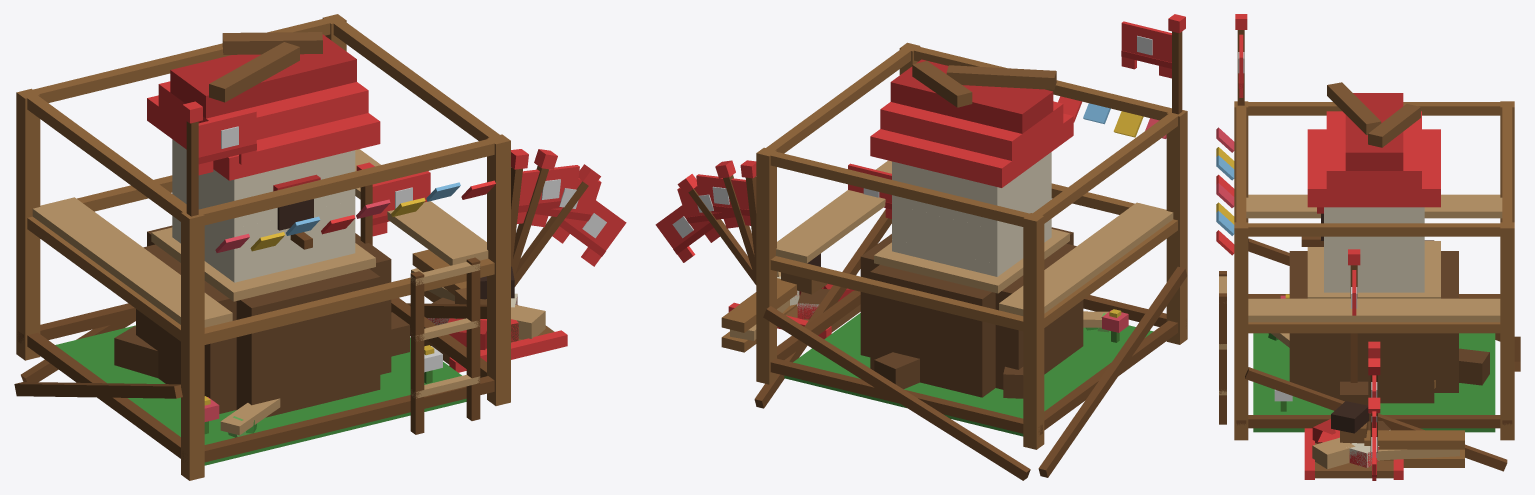
File: robin-home.glb
The picture shows the model from 3 angles, left to right: view 1: azimuth 30°, elevation 25°; view 2: azimuth 150°, elevation 25°; view 3: azimuth 270°, elevation 25°; orthographic projection. The views are drawn at different scales.
Visible parts, largest first — view 1: scaffold-mesh, built-mesh, dismantle-75-mesh, dismantle-25-mesh, dismantle-50-mesh, scaffold-banner, dismantle-25-banner, dismantle-75-banner, banner, scaffold-flag-pole, dismantle-25-flag-pole, dismantle-50-flag-pole (+3 smaller); view 2: scaffold-mesh, built-mesh, dismantle-25-mesh, dismantle-75-mesh, dismantle-50-mesh, scaffold-banner, dismantle-25-banner, dismantle-75-banner, dismantle-50-banner, dismantle-25-flag-pole, scaffold-flag-pole, dismantle-50-flag-pole (+2 smaller); view 3: scaffold-mesh, built-mesh, dismantle-25-mesh, dismantle-75-mesh, dismantle-50-mesh, flag-pole, scaffold-flag-pole, scaffold-banner, dismantle-25-flag-pole.
Boxes of the visible parts, x1,y1,x2,y2 form: scaffold-mesh: (14, 14, 510, 480); built-mesh: (147, 32, 433, 434); dismantle-75-mesh: (114, 199, 567, 464); dismantle-25-mesh: (55, 266, 567, 464); dismantle-50-mesh: (114, 297, 567, 465); scaffold-banner: (198, 110, 256, 175); dismantle-25-banner: (552, 192, 626, 266); dismantle-75-banner: (517, 165, 579, 223); banner: (372, 171, 430, 236); scaffold-flag-pole: (182, 101, 202, 216); dismantle-25-flag-pole: (514, 164, 600, 286); dismantle-50-flag-pole: (512, 149, 557, 276); scaffold-mesh: (721, 42, 1187, 480); built-mesh: (860, 59, 1121, 397); dismantle-25-mesh: (729, 253, 1153, 434); dismantle-75-mesh: (728, 204, 1116, 435); dismantle-50-mesh: (729, 271, 1116, 436); scaffold-banner: (1121, 21, 1171, 78); dismantle-25-banner: (655, 198, 719, 262); dismantle-75-banner: (696, 174, 750, 225); dismantle-50-banner: (677, 183, 738, 233); dismantle-25-flag-pole: (677, 174, 756, 284); scaffold-flag-pole: (1168, 14, 1185, 114); dismantle-50-flag-pole: (715, 160, 756, 281); scaffold-mesh: (1216, 101, 1520, 471); built-mesh: (1269, 82, 1458, 405); dismantle-25-mesh: (1253, 333, 1495, 476); dismantle-75-mesh: (1274, 240, 1488, 479); dismantle-50-mesh: (1271, 333, 1489, 476); flag-pole: (1348, 249, 1360, 382); scaffold-flag-pole: (1235, 14, 1247, 105); scaffold-banner: (1238, 34, 1244, 97); dismantle-25-flag-pole: (1368, 397, 1380, 452).
Size of the model in its own units: 2.45 by 1.8 by 1.51.
